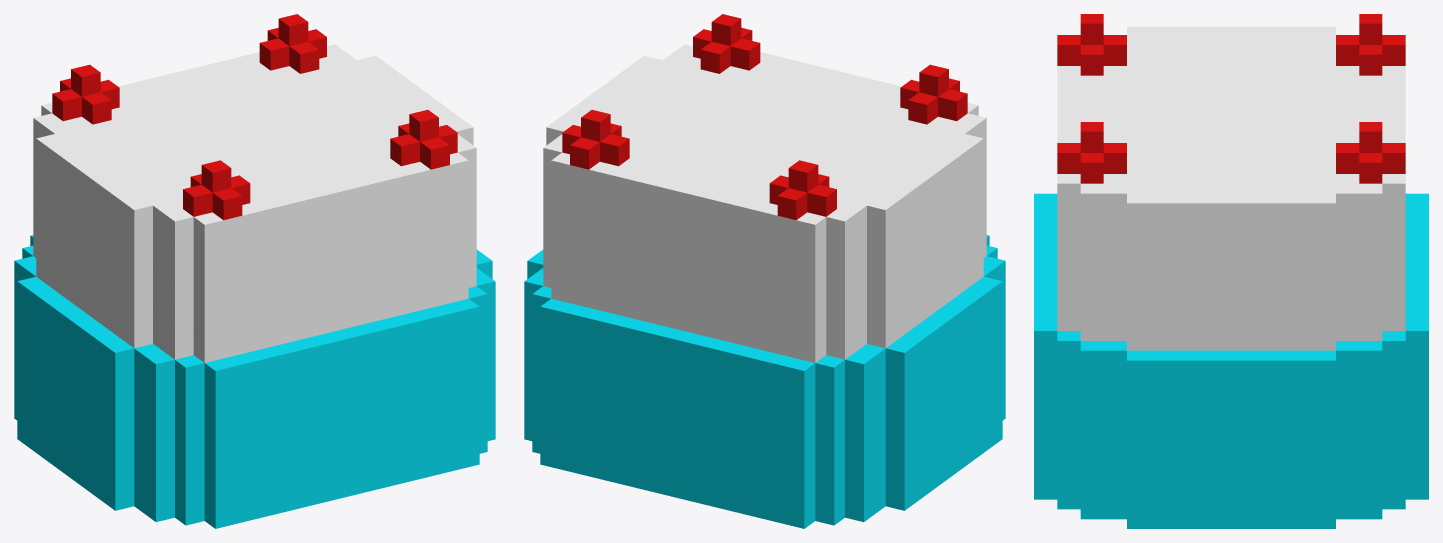
File: Cake big.gltf
3 views of the same model, side by side, from view 1: azimuth 30°, elevation 25°; view 2: azimuth 150°, elevation 25°; view 3: azimuth 270°, elevation 25° (orthographic). The views are drawn at different scales.
Visible parts, largest first — view 1: Layer.1; view 2: Layer.1; view 3: Layer.1.
Part boxes in pixels (x1=…): Layer.1: x1=14, y1=14, x2=495, y2=528; Layer.1: x1=524, y1=14, x2=1005, y2=528; Layer.1: x1=1034, y1=14, x2=1428, y2=528.
Size of the model in its own units: 20 by 17 by 17.
1 material, 1 textured.
